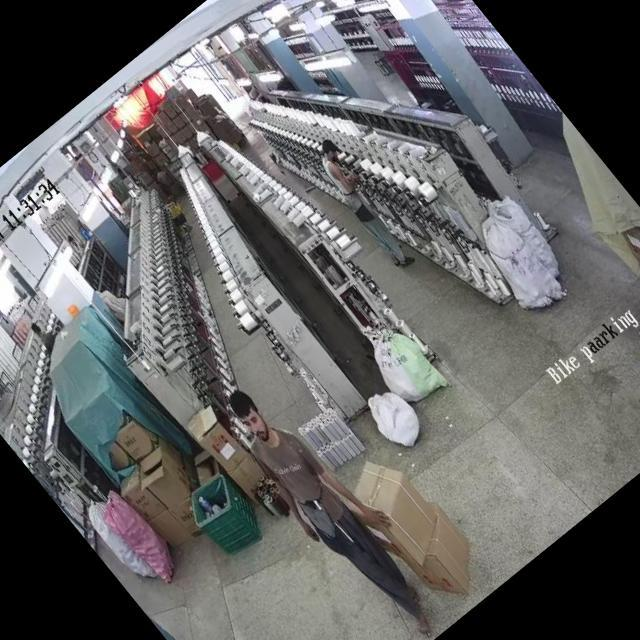person: (216, 377, 444, 638), (308, 138, 429, 279)
